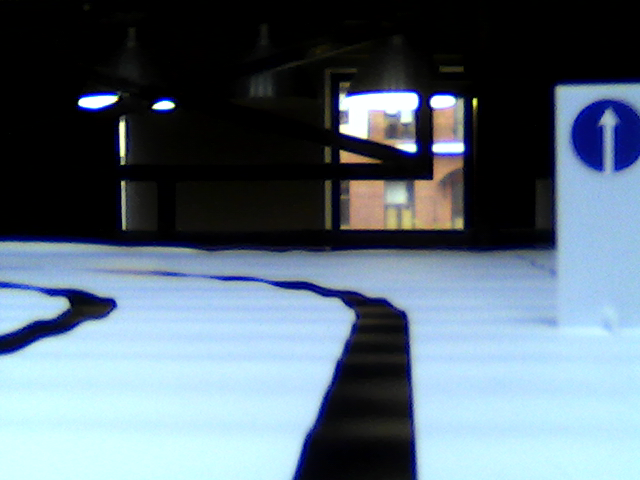forw: (568, 99, 640, 174)
